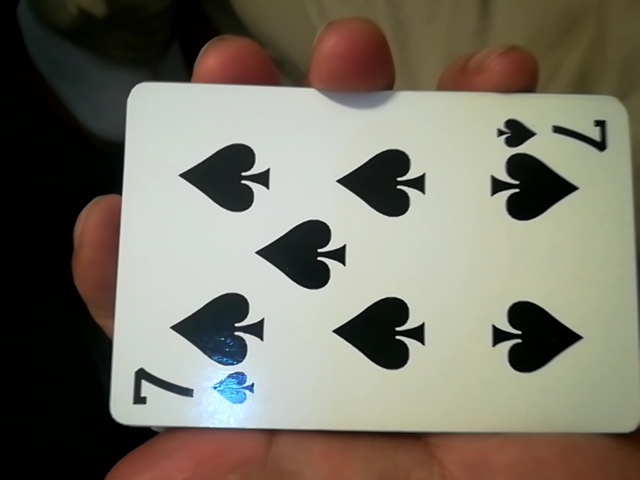ht 7: (86, 78, 626, 445)
